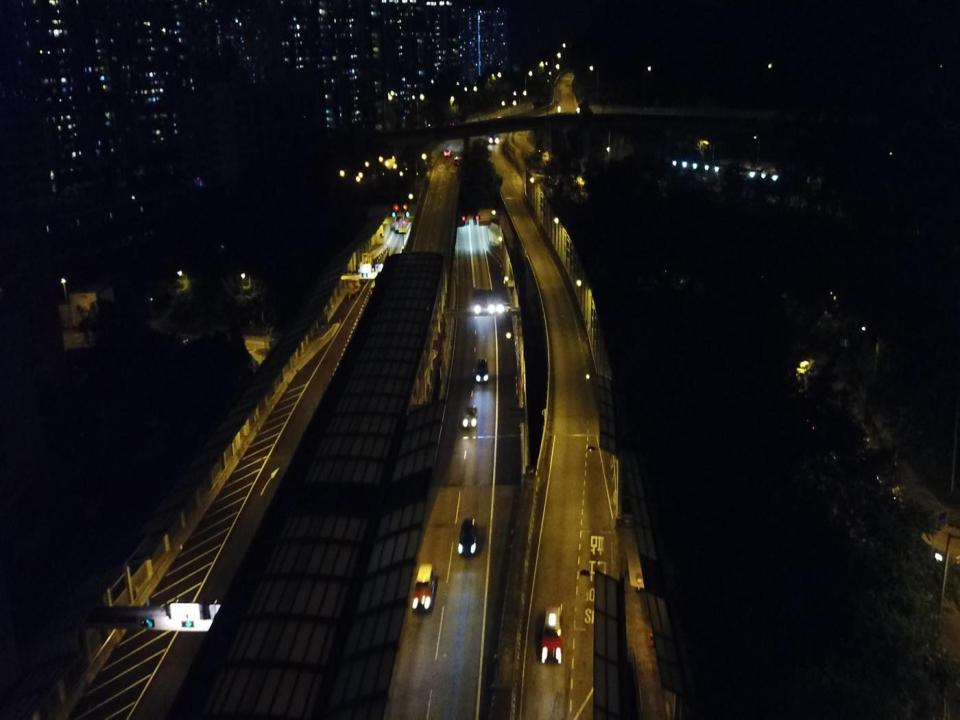car: (540, 604, 564, 664), (411, 562, 437, 613), (458, 516, 478, 556), (460, 405, 479, 430), (476, 357, 489, 384), (489, 129, 499, 145), (454, 156, 462, 168), (443, 148, 451, 157)
